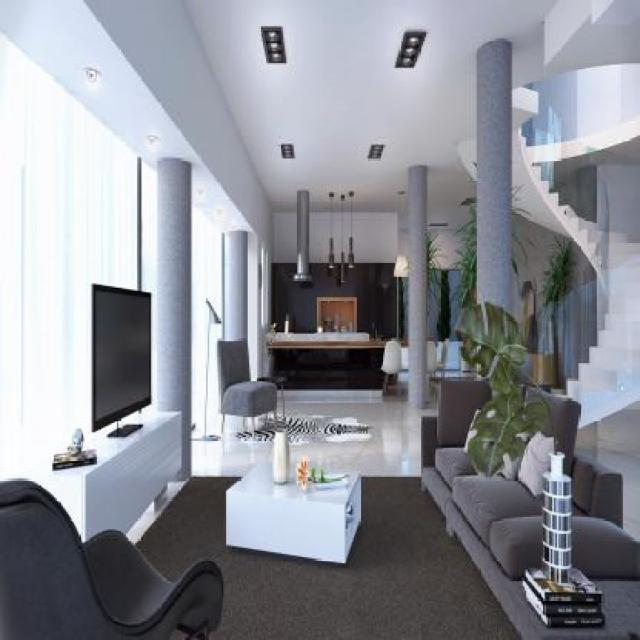Floor: (126, 411, 275, 544), (276, 386, 438, 476), (574, 398, 640, 541)
